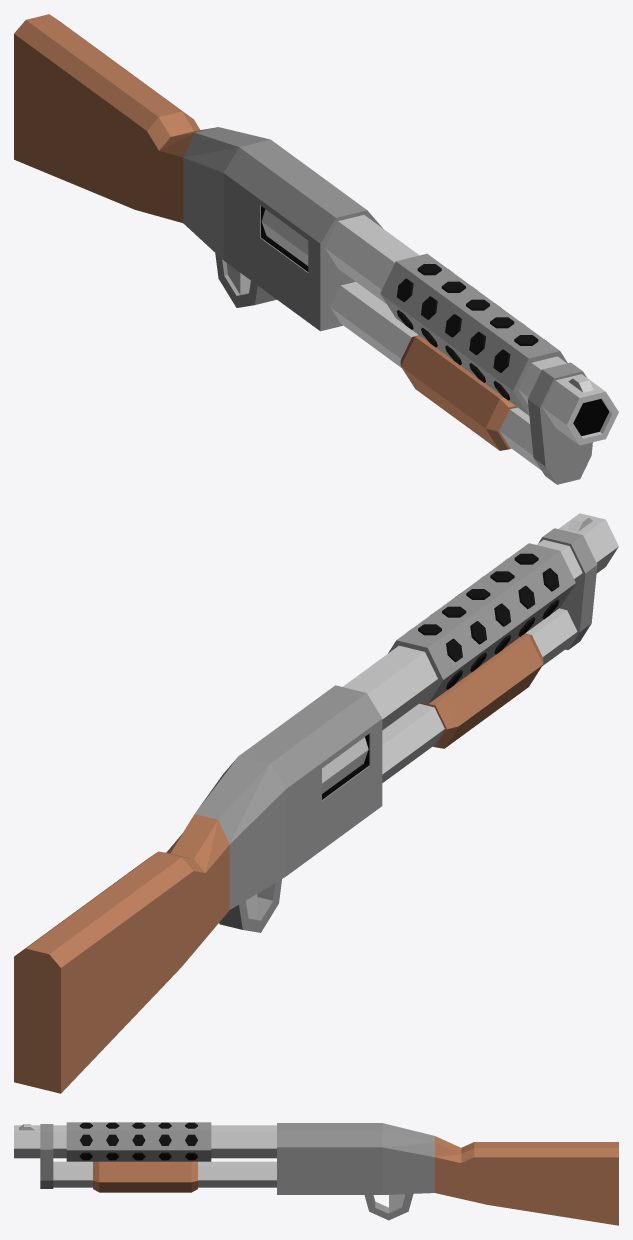
The model's file is M1897TrenchGun.obj.
3 views of the same model, one above another, from view 1: azimuth 30°, elevation 25°; view 2: azimuth 150°, elevation 25°; view 3: azimuth 270°, elevation 25° (orthographic). The views are drawn at different scales.
Parts seen in each view (by area): view 1: z, o, j, c, n, i, d, a, e, y, g, x (+10 smaller); view 2: z, o, c, j, n, i, a, b, x, d, g, y (+3 smaller); view 3: z, o, j, n, i, c, a, d, x, g, b, y (+11 smaller).
Boxes of the visible parts, x1=… form: z: x1=14, y1=14, x2=189, y2=209; o: x1=380, y1=253, x2=567, y2=415; j: x1=325, y1=215, x2=618, y2=445; c: x1=224, y1=139, x2=382, y2=243; n: x1=400, y1=335, x2=517, y2=450; i: x1=330, y1=282, x2=540, y2=469; d: x1=223, y1=173, x2=260, y2=286; a: x1=183, y1=157, x2=223, y2=259; e: x1=308, y1=235, x2=355, y2=331; y: x1=135, y1=111, x2=200, y2=216; g: x1=260, y1=237, x2=308, y2=321; x: x1=159, y1=127, x2=216, y2=222; z: x1=14, y1=851, x2=193, y2=1093; o: x1=388, y1=543, x2=575, y2=704; c: x1=239, y1=685, x2=381, y2=788; j: x1=343, y1=513, x2=618, y2=730; n: x1=419, y1=633, x2=543, y2=748; i: x1=382, y1=608, x2=577, y2=782; a: x1=229, y1=789, x2=285, y2=909; b: x1=195, y1=756, x2=285, y2=844; x: x1=166, y1=814, x2=229, y2=938; d: x1=286, y1=763, x2=321, y2=876; g: x1=322, y1=765, x2=370, y2=849; y: x1=160, y1=851, x2=205, y2=966; z: x1=474, y1=1142, x2=618, y2=1225; o: x1=66, y1=1122, x2=211, y2=1161; j: x1=14, y1=1125, x2=276, y2=1158; n: x1=93, y1=1161, x2=197, y2=1192; i: x1=53, y1=1161, x2=276, y2=1187; c: x1=277, y1=1123, x2=382, y2=1147; a: x1=382, y1=1147, x2=434, y2=1194; d: x1=342, y1=1147, x2=382, y2=1194; x: x1=435, y1=1136, x2=461, y2=1198; g: x1=290, y1=1168, x2=342, y2=1194; b: x1=382, y1=1123, x2=434, y2=1157; y: x1=461, y1=1142, x2=487, y2=1204.
Size of the model in its own units: 1.52 by 3.95 by 23.
5 materials, 5 textured.
